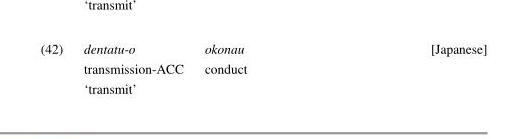table: (39, 39, 486, 97)
table column: (338, 39, 486, 97), (193, 39, 338, 97), (72, 39, 193, 97), (39, 39, 72, 97)
table row: (39, 57, 486, 77), (39, 77, 486, 97), (39, 39, 486, 57)
table spanning cell: (39, 39, 72, 97)
